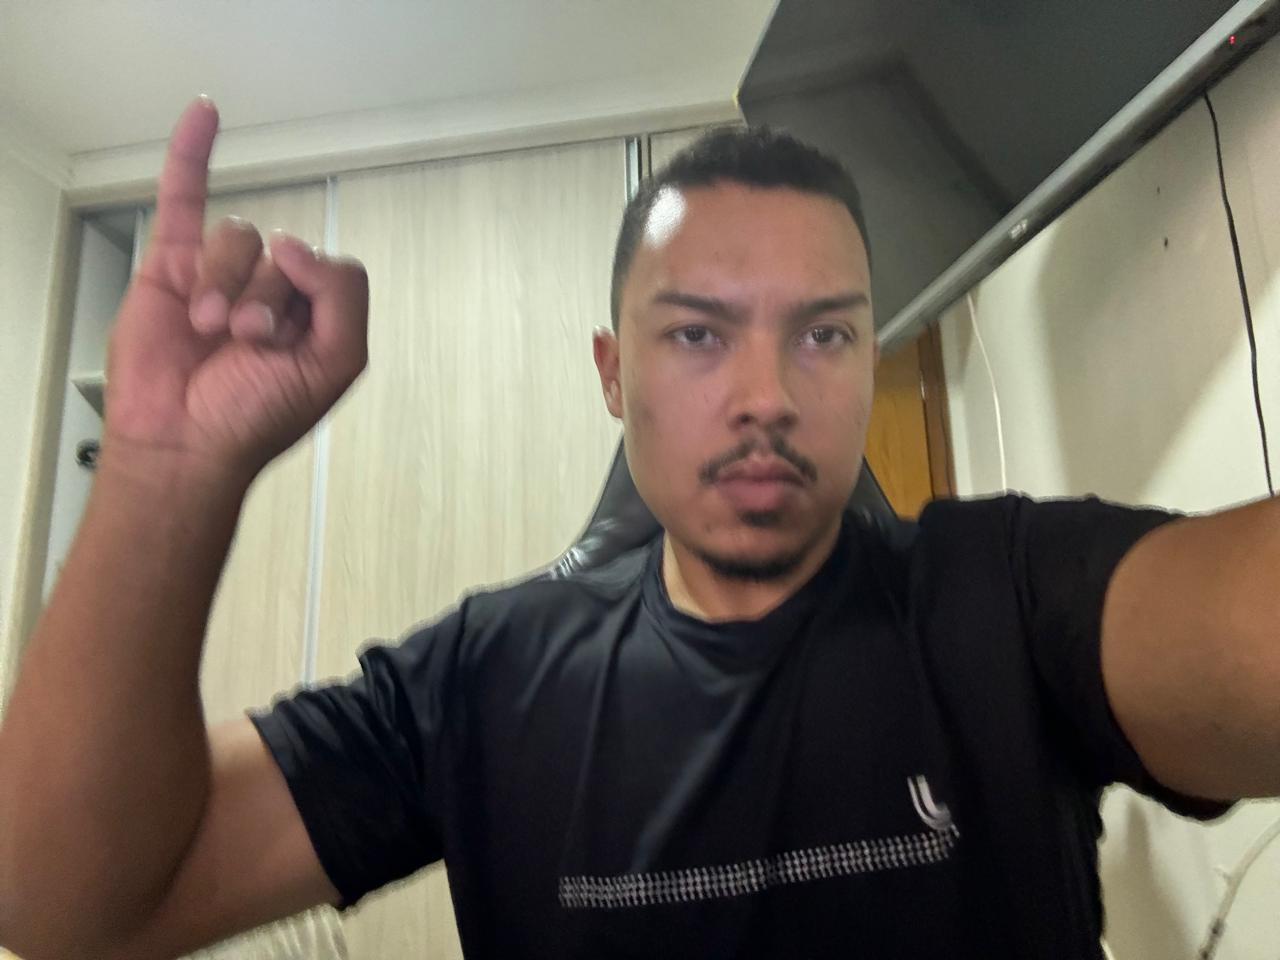i: (95, 83, 383, 486)
